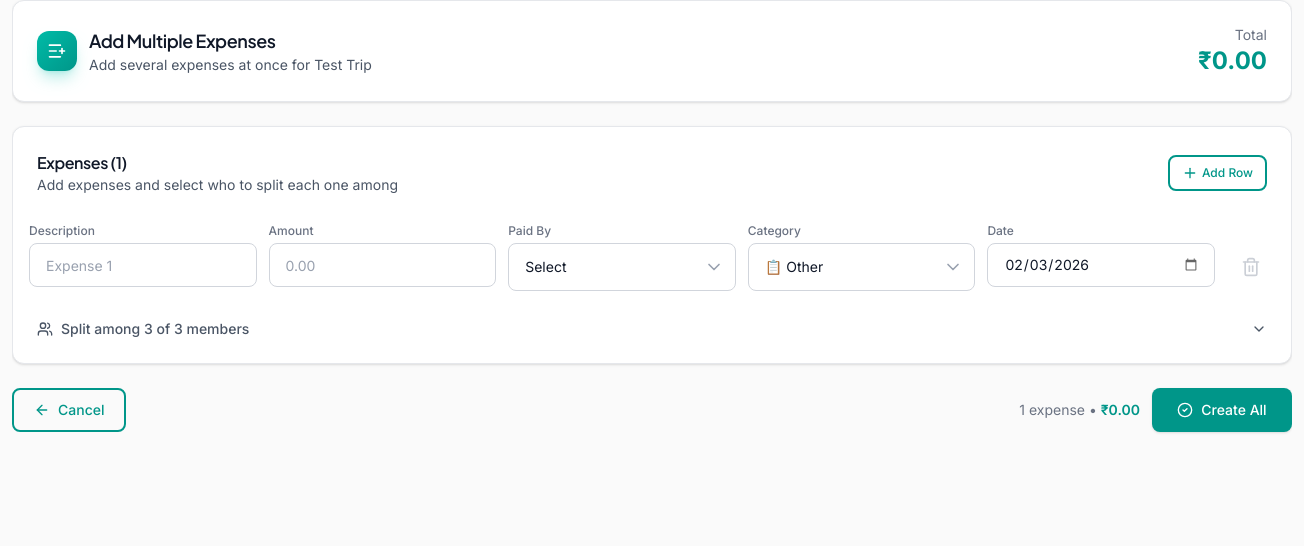
Scenario: BulkExpenseForm › toggles member selection in split among
// Expand split section
Click the button "Split among 3 of 3 members" at [102, 328], box [29, 311, 1275, 347]
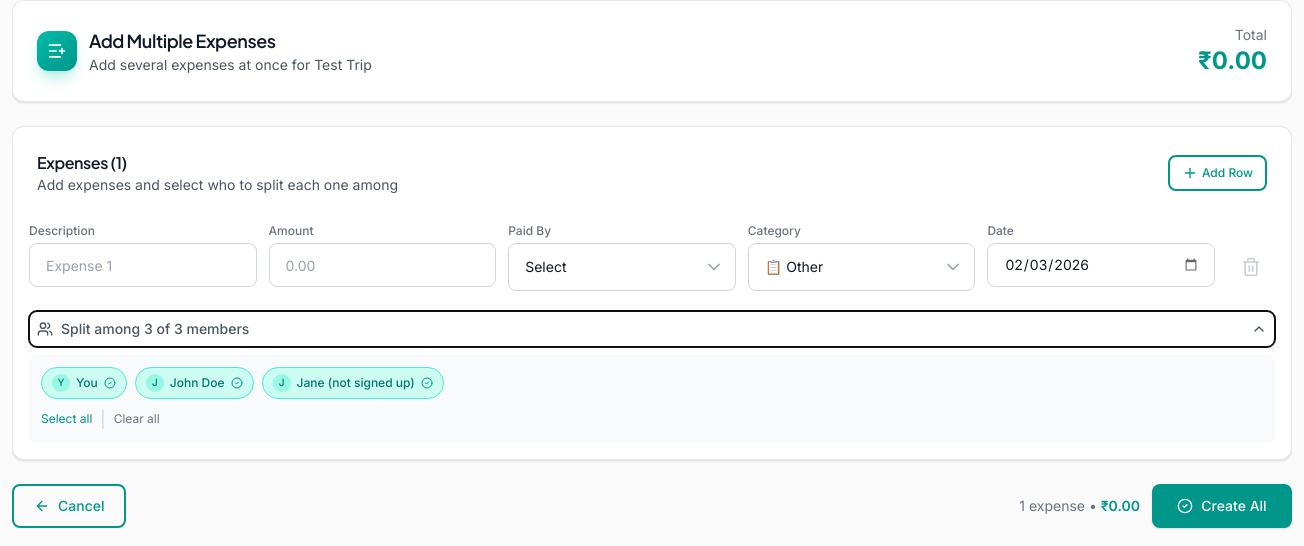
Click the button "J John Doe" at [194, 383], box [135, 367, 254, 399]
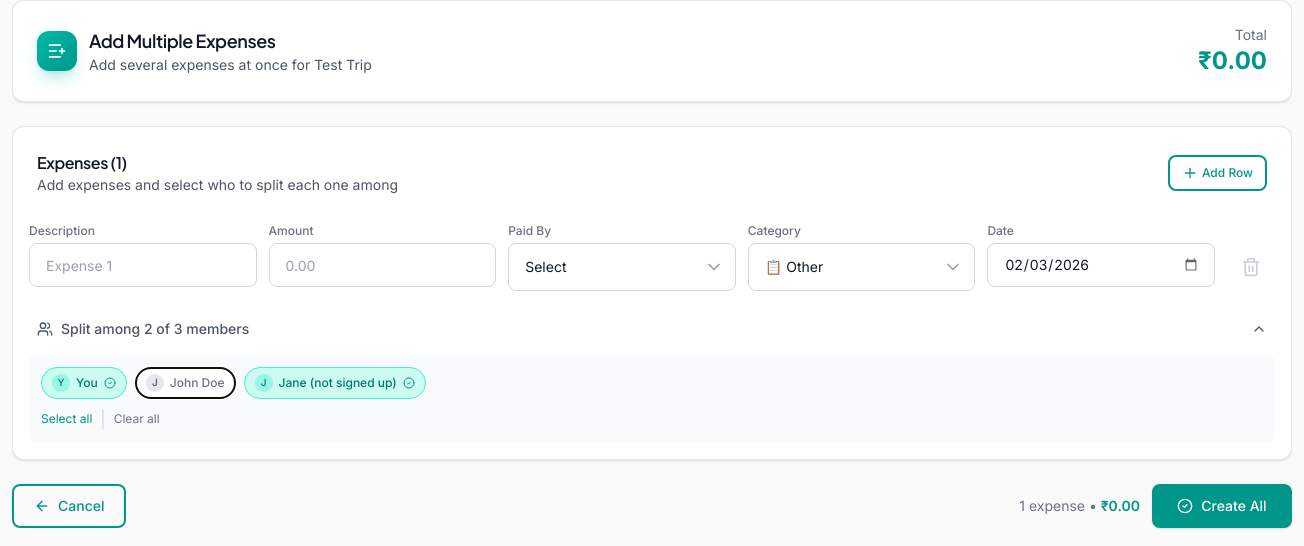
Check: the text "Split among 2 of 3 members" is shown, box [61, 319, 249, 339]
